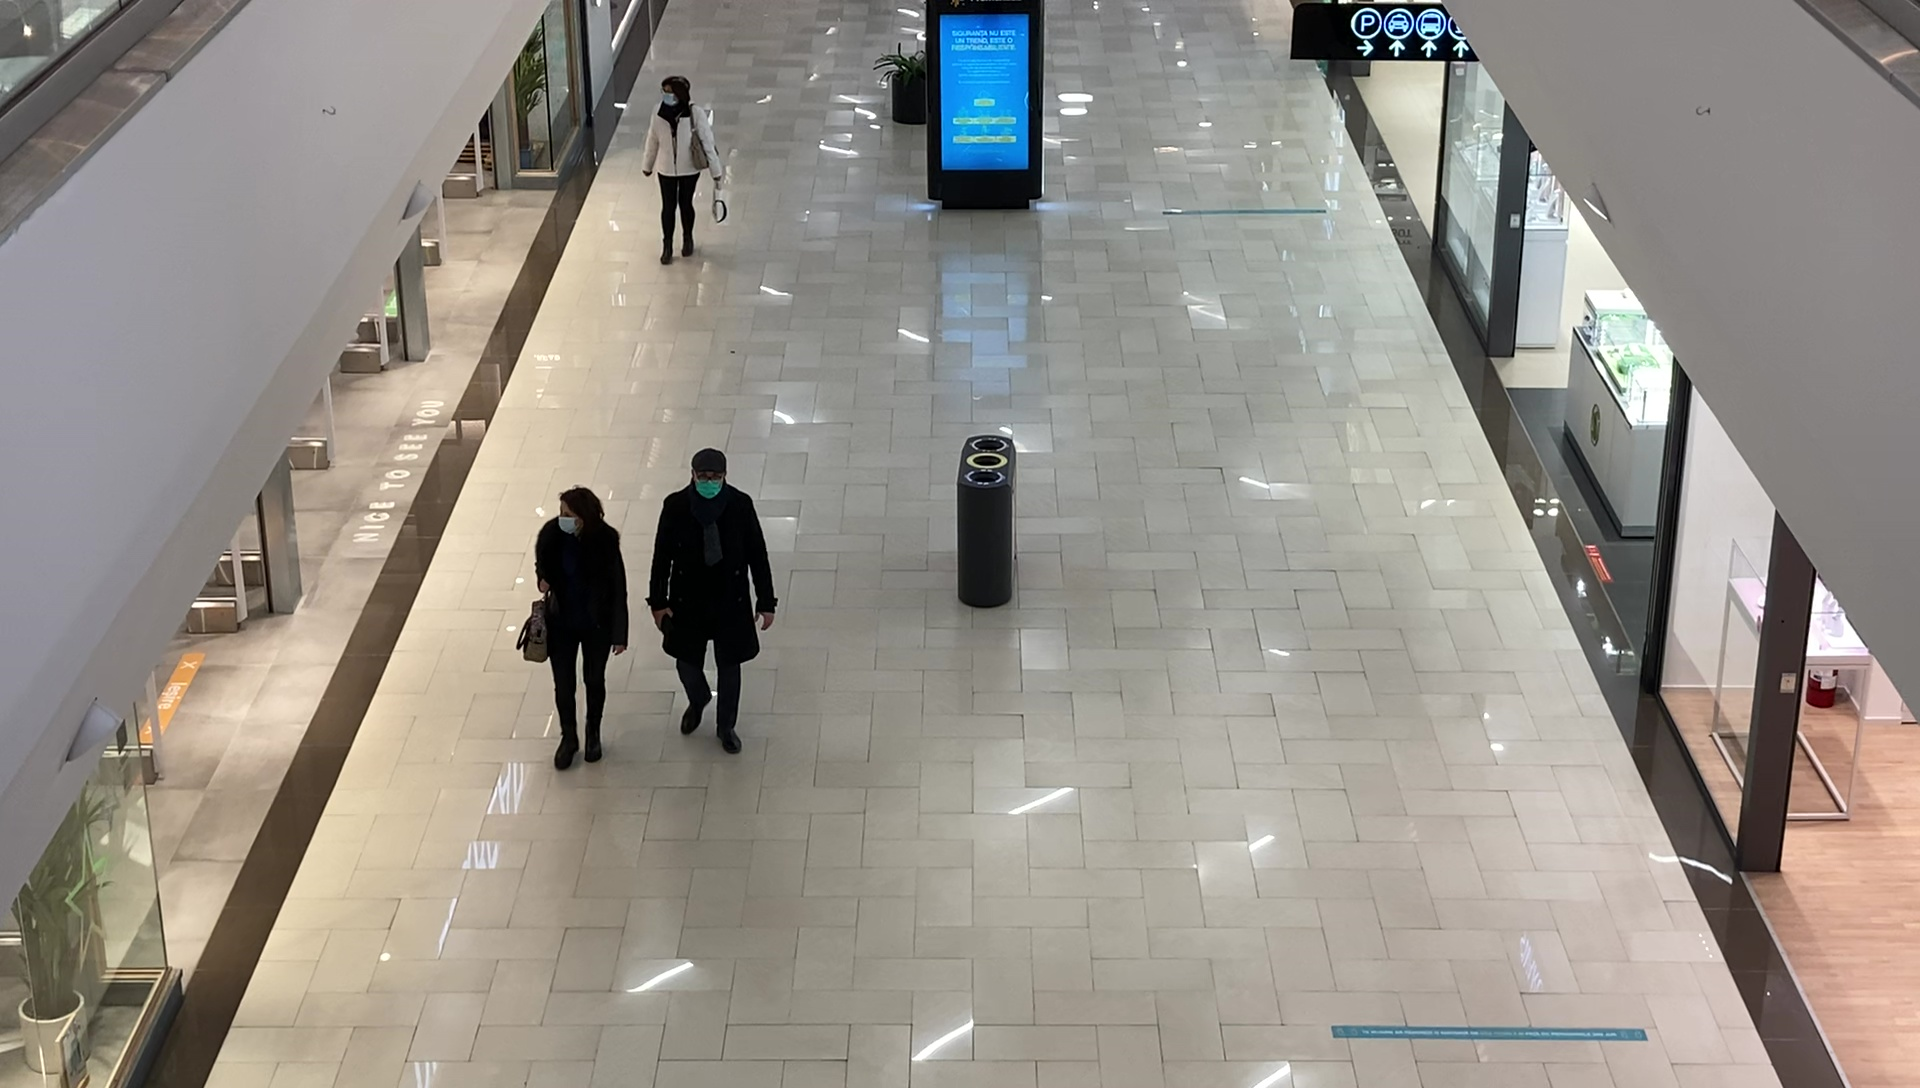person: (643, 448, 780, 759), (536, 485, 631, 773), (640, 76, 723, 266)
